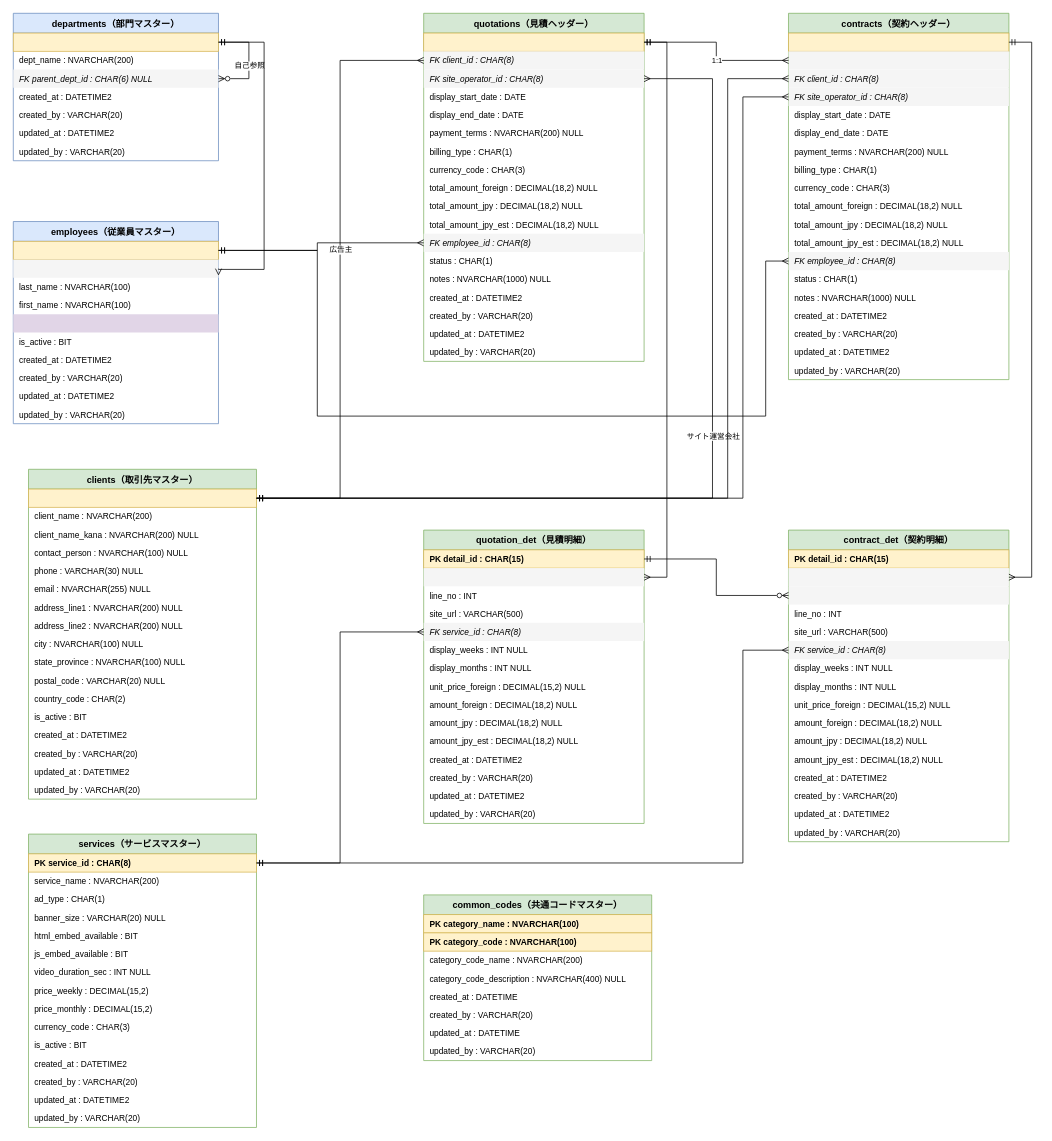
The diagram is 1052 pixels wide and 1141 high, and some of its shapes have lost their labels. The centre of each missing label's shape, as x and y in pixels:
FK contract_id : CHAR(12): point 898,577
FK dept_id : CHAR(6): point 115,268
FK quotation_detail_id : CHAR(15) NULL: point 898,595
FK quotation_id : CHAR(12): point 533,577
FK,UK quotation_id : CHAR(12): point 898,60
PK client_id : CHAR(8): point 142,497
PK contract_id : CHAR(12): point 898,41
PK dept_id : CHAR(6): point 115,41
PK employee_id : CHAR(8): point 115,250
PK quotation_id : CHAR(12): point 533,41
UK email : NVARCHAR(255) NULL: point 115,323
